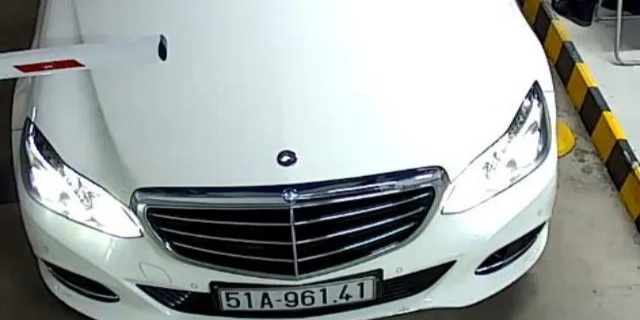bien_so: (219, 280, 374, 309)
